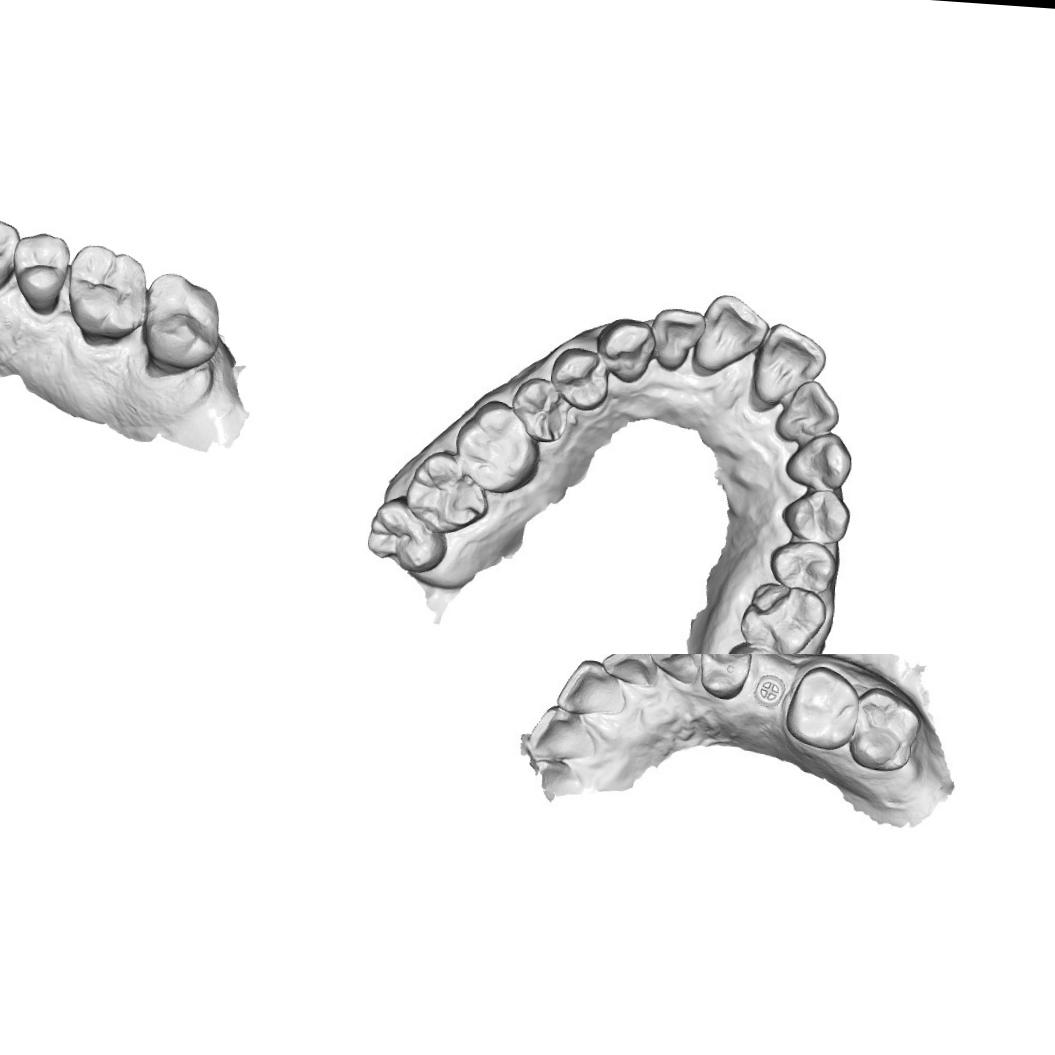canine: (786, 429, 854, 496), (594, 315, 656, 385), (643, 654, 705, 685)
implant_plus: (752, 670, 786, 712)
incisor: (754, 321, 826, 404), (692, 290, 766, 368), (553, 654, 628, 718), (526, 702, 600, 762), (650, 300, 708, 376), (776, 380, 844, 441), (598, 654, 657, 690)
molar: (136, 267, 226, 369), (62, 240, 150, 341), (454, 396, 540, 496), (399, 446, 488, 536), (781, 660, 861, 750), (846, 683, 925, 772), (363, 495, 446, 574), (735, 579, 823, 651)
premolar: (8, 228, 74, 308), (510, 374, 572, 438), (786, 488, 849, 546), (774, 536, 833, 590), (554, 348, 608, 405), (695, 654, 753, 702), (0, 213, 22, 293)
